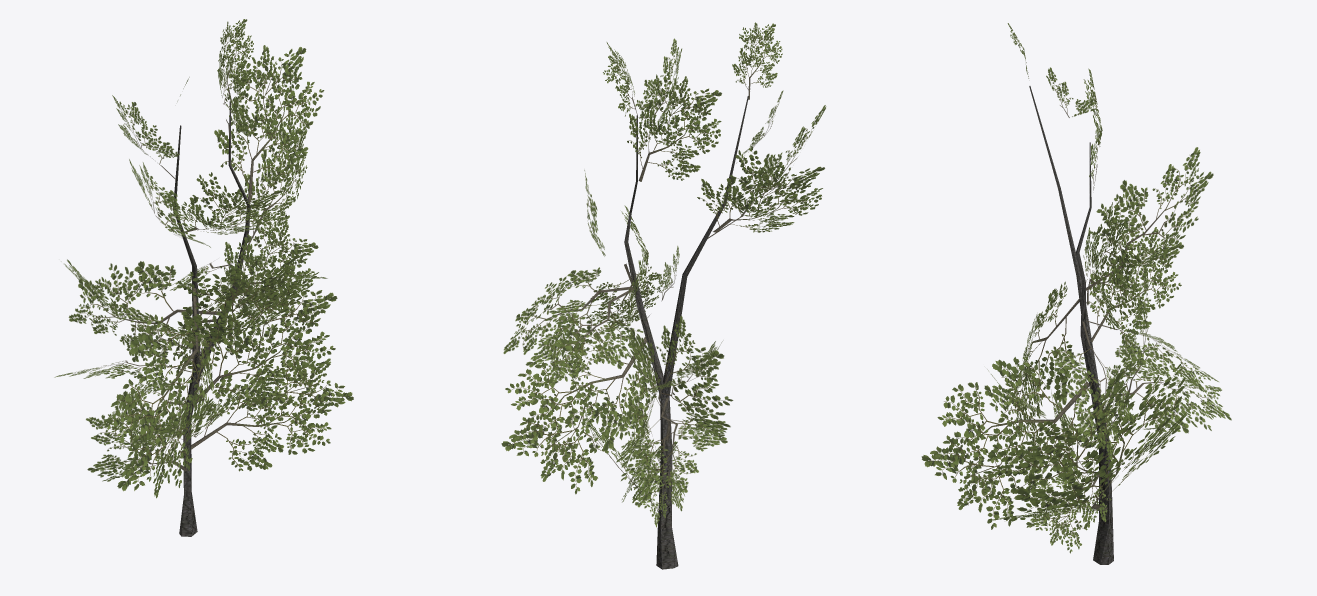
The model's file is tree-12.glb.
3 views of the same model, side by side, from view 1: azimuth 30°, elevation 25°; view 2: azimuth 150°, elevation 25°; view 3: azimuth 270°, elevation 25° (orthographic). The views are drawn at different scales.
Visible parts, largest first — view 1: Tree-03-4; view 2: Tree-03-4; view 3: Tree-03-4.
Part boxes in pixels (x1,y1,x2,y2): Tree-03-4: [54, 19, 353, 536]; Tree-03-4: [501, 22, 826, 569]; Tree-03-4: [921, 23, 1231, 564].
Bounding box in the file's own units: 4.59 × 6.41 × 4.37.
3 materials, 3 textured.
